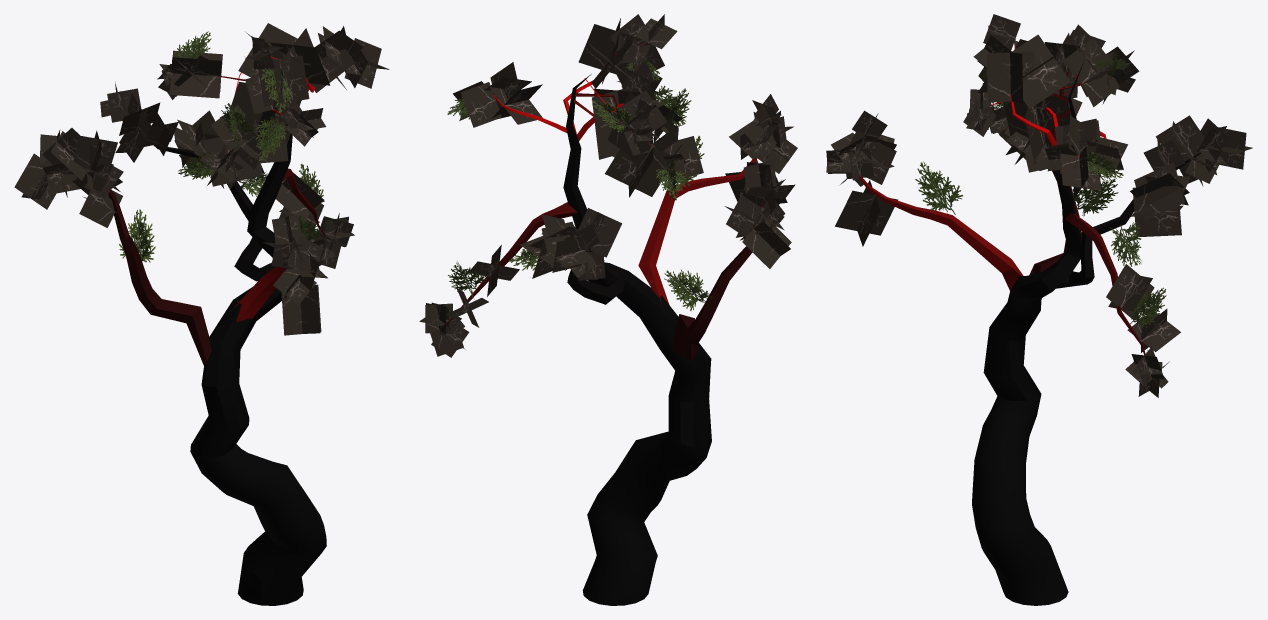
Rendered from cpine2 lod1.FBX.
3 renders of one model, left to right at view 1: azimuth 30°, elevation 25°; view 2: azimuth 150°, elevation 25°; view 3: azimuth 270°, elevation 25°, orthographic.
Parts seen in each view (by area): view 1: cpine_LOD0; view 2: cpine_LOD0; view 3: cpine_LOD0.
Part boxes in pixels (x1=…): cpine_LOD0: x1=14, y1=23, x2=389, y2=605; cpine_LOD0: x1=419, y1=14, x2=797, y2=605; cpine_LOD0: x1=826, y1=14, x2=1252, y2=605.
Bounding box in the file's own units: 106482 × 159391 × 109305.
